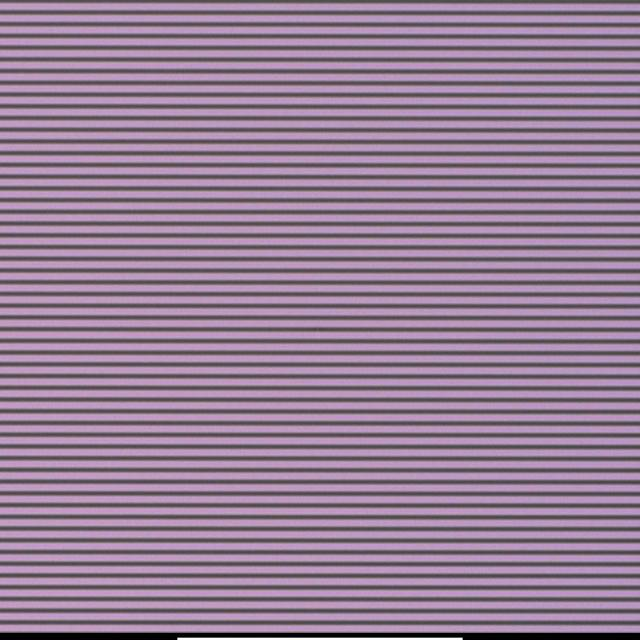03_intrusion: (315, 326, 325, 338)
